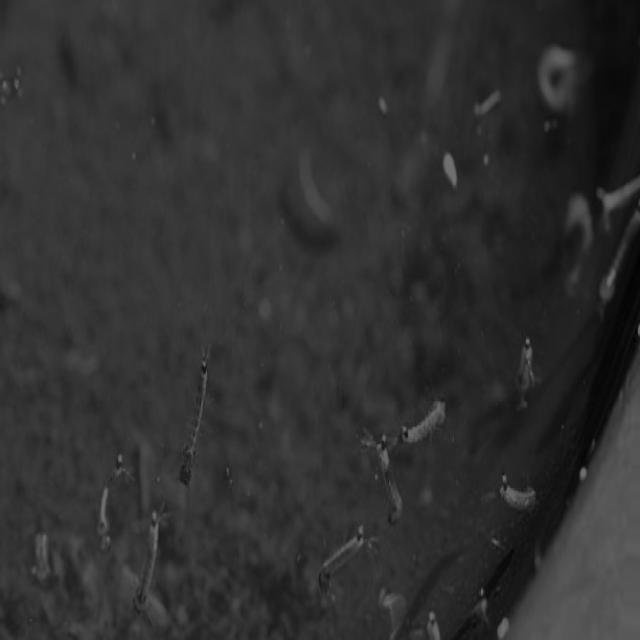larvas: (597, 208, 639, 312), (180, 362, 207, 482), (320, 529, 366, 592), (540, 44, 579, 110), (97, 462, 124, 547), (374, 441, 402, 522), (402, 400, 448, 448), (135, 512, 156, 613), (599, 168, 639, 219), (498, 478, 538, 513), (518, 339, 534, 405), (34, 530, 50, 585), (429, 611, 442, 640)
